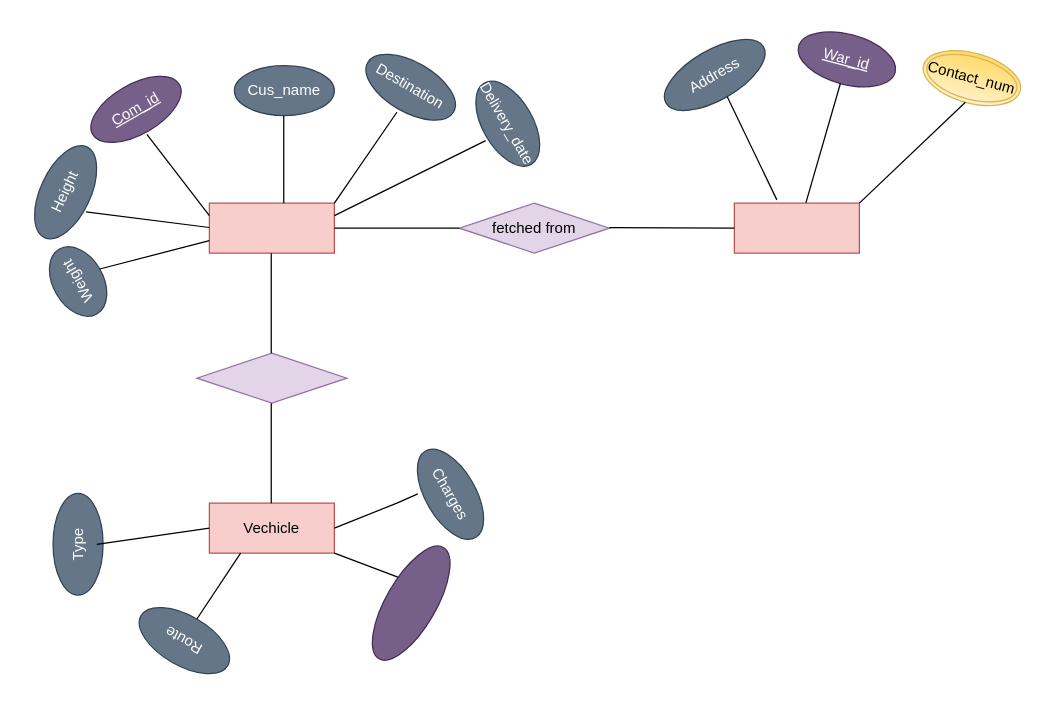
The diagram is 1050 pixels wide and 710 high, and some of its shapes have lost their labels. Here are the shapes that lost their labels. From the top down, the centre of each, then its label:
At (271,227): "Commodity".
At (796,227): "Warehouse".
At (271,377): "shipped by".
At (410,603): "Vechicle_no.".
